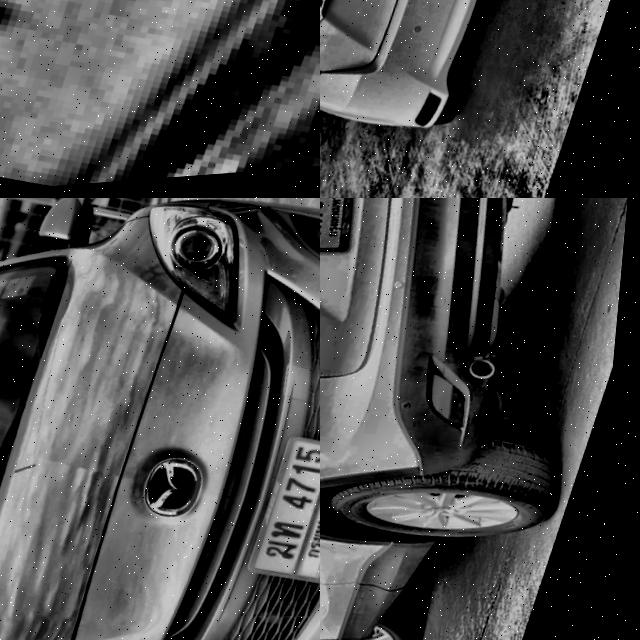license-plate: (0, 0, 320, 198), (243, 432, 320, 601), (320, 198, 379, 275)
